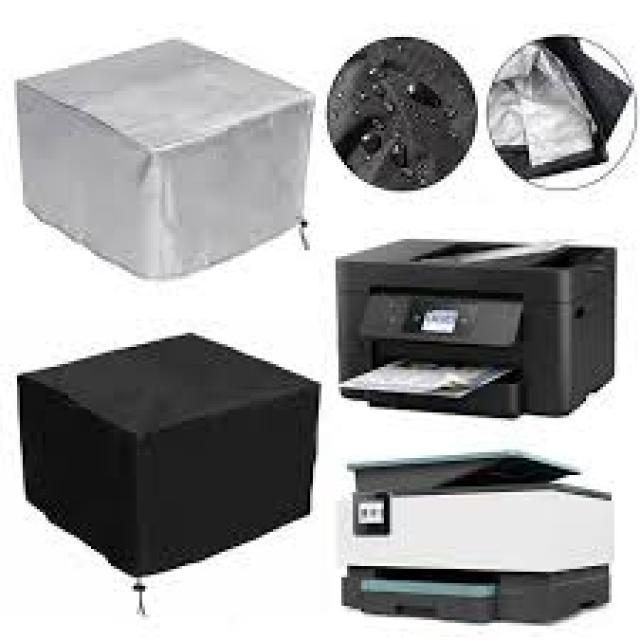printer: (333, 236, 617, 418)
